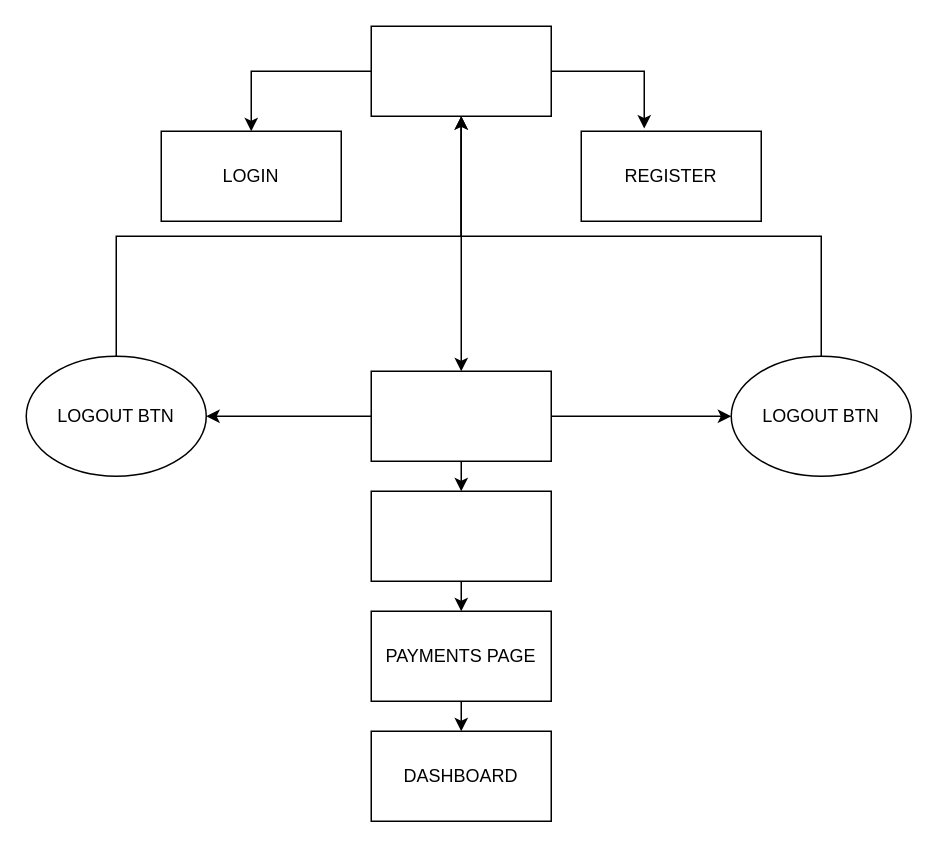
The diagram is 938 pixels wide and 848 high, and some of its shapes have lost their labels. The shapes that lost their labels are listed below. From the top down, each one's centre as x and y in pixels, then its label:
At (x=460, y=70): "LANDING PAGE".
At (x=460, y=415): "LISTING PAGE".
At (x=460, y=535): "CAR BOOKING".
